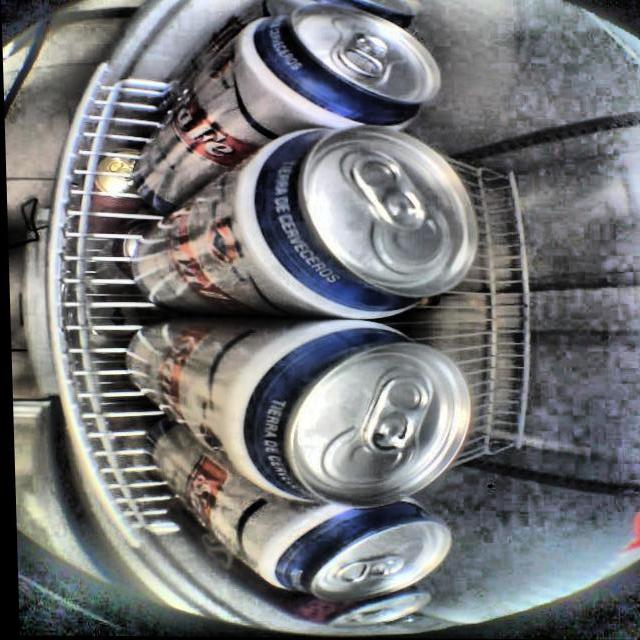litter: (106, 306, 493, 513), (116, 6, 448, 230), (112, 125, 483, 324), (134, 448, 456, 611), (162, 0, 428, 69), (308, 588, 430, 639)
